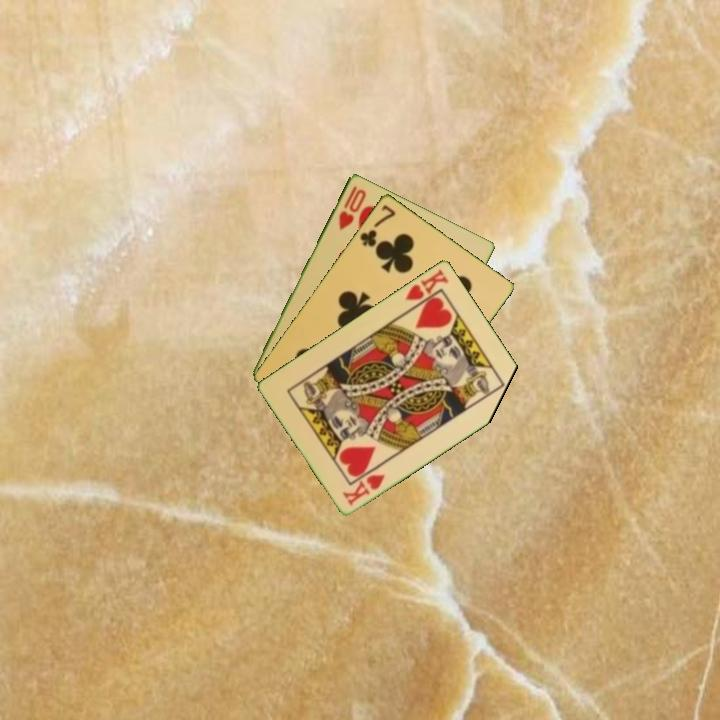10h: (335, 182, 369, 232)
7c: (356, 201, 398, 250)
Kh: (402, 265, 452, 312), (339, 470, 388, 508)
